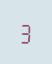three: (19, 19, 30, 44)
